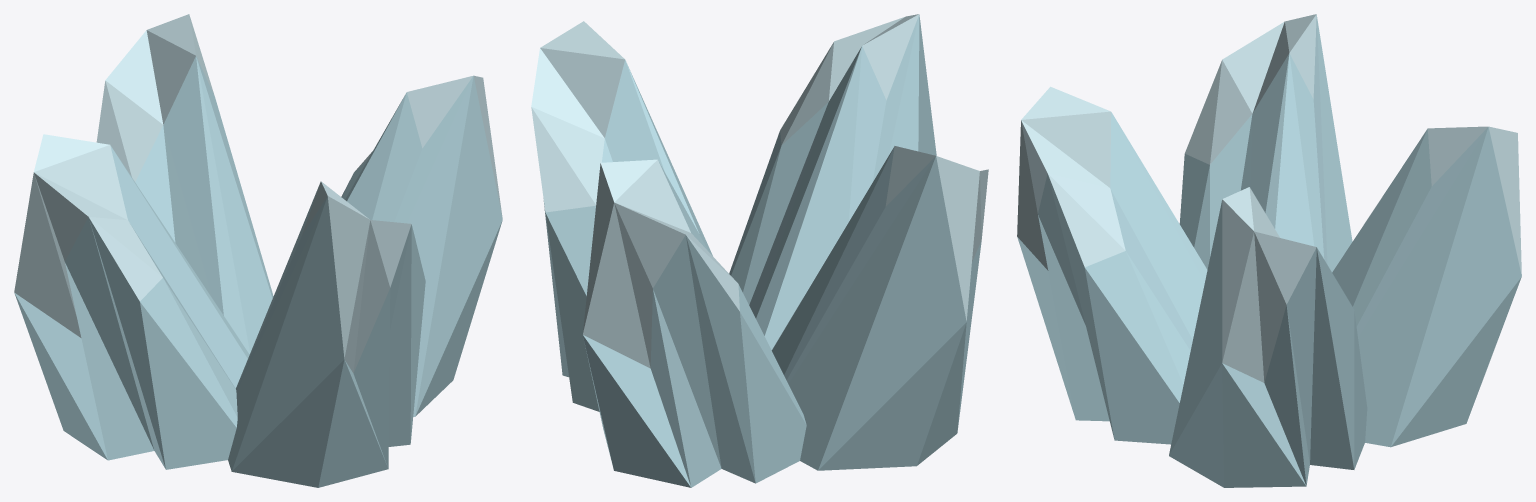
Rendered from sharp_rock_7.fbx.
3 views of the same model, side by side, from view 1: azimuth 30°, elevation 25°; view 2: azimuth 150°, elevation 25°; view 3: azimuth 270°, elevation 25° (orthographic). The views are drawn at different scales.
Parts seen in each view (by area): view 1: sharp_rock_7; view 2: sharp_rock_7; view 3: sharp_rock_7.
Part boxes in pixels (bbox=[...]): sharp_rock_7: bbox=[14, 14, 502, 487]; sharp_rock_7: bbox=[531, 14, 988, 487]; sharp_rock_7: bbox=[1017, 14, 1521, 487].
Bounding box in the file's own units: 413 × 269 × 413.
